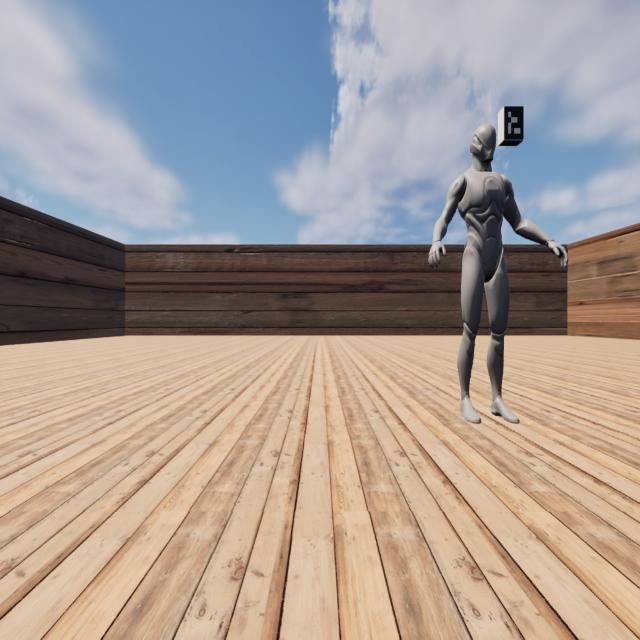aruco: (505, 106, 524, 140)
hip: (463, 246, 505, 263)
